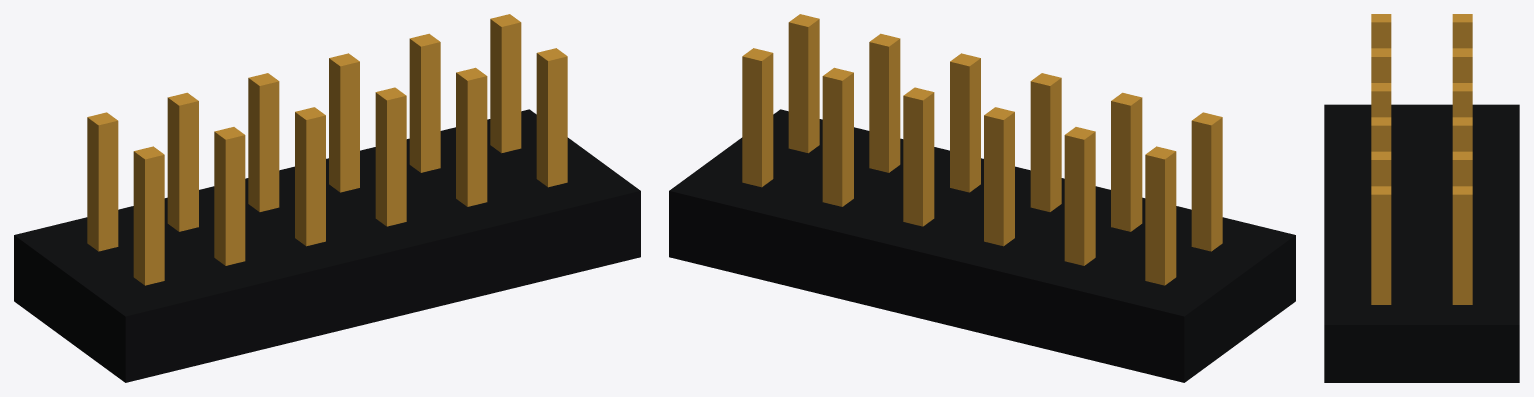
The model's file is L131_SPI_TPM.fbx.
3 views of the same model, side by side, from view 1: azimuth 30°, elevation 25°; view 2: azimuth 150°, elevation 25°; view 3: azimuth 270°, elevation 25° (orthographic). The views are drawn at different scales.
Visible parts, largest first — view 1: SPI_TPM_Black, SPI_TPM_Gold; view 2: SPI_TPM_Black, SPI_TPM_Gold; view 3: SPI_TPM_Black, SPI_TPM_Gold.
Boxes of the visible parts, x1,y1,x2,y2 form: SPI_TPM_Black: (14, 109, 640, 382); SPI_TPM_Gold: (87, 14, 567, 285); SPI_TPM_Black: (669, 109, 1295, 382); SPI_TPM_Gold: (742, 14, 1222, 285); SPI_TPM_Black: (1324, 104, 1519, 382); SPI_TPM_Gold: (1371, 14, 1472, 304).
Size of the model in its own units: 1.62 by 0.58 by 0.608.
